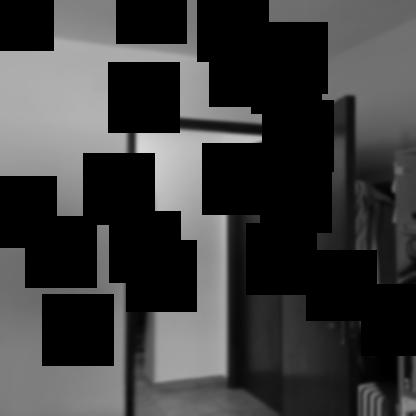Porte: (124, 91, 361, 415)
